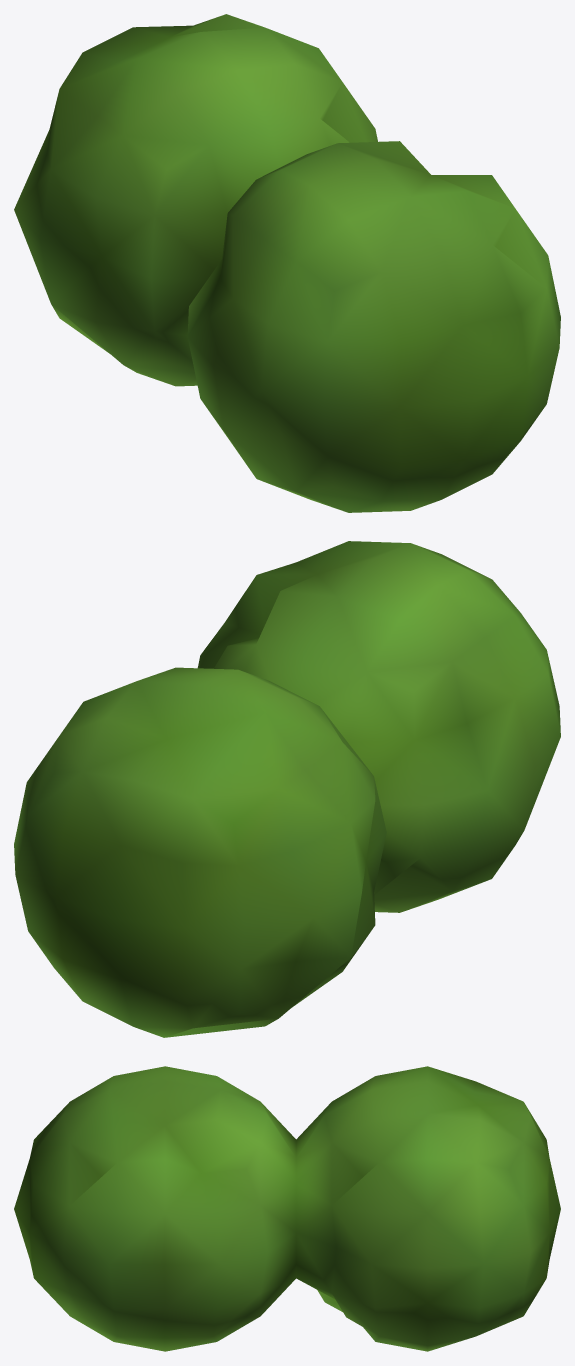
Rendered from microscopic-bacteria-chain-bacterium_v2.glb.
The picture shows the model from 3 angles, top to bottom: view 1: azimuth 30°, elevation 25°; view 2: azimuth 150°, elevation 25°; view 3: azimuth 270°, elevation 25°; orthographic projection. The views are drawn at different scales.
Parts seen in each view (by area): view 1: Chain Bacterium_v2; view 2: Chain Bacterium_v2; view 3: Chain Bacterium_v2.
Part boxes in pixels (x1,y1,x2,y2): Chain Bacterium_v2: (14, 14, 560, 512); Chain Bacterium_v2: (14, 541, 560, 1037); Chain Bacterium_v2: (14, 1066, 560, 1351).
Size of the model in its own units: 0.2058 by 0.2058 by 0.4.
